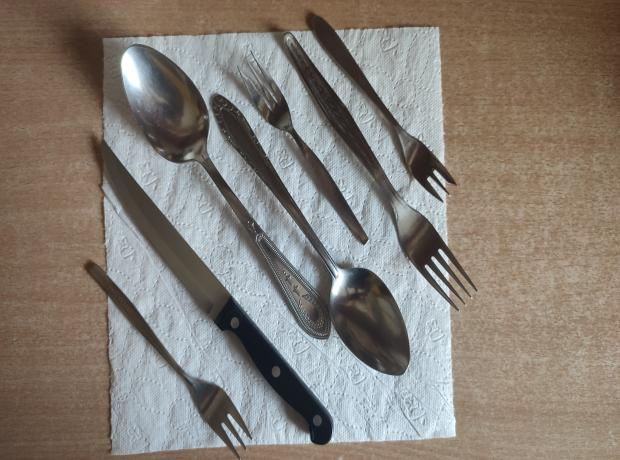metal: (100, 138, 334, 448), (119, 44, 331, 338), (212, 94, 412, 376), (86, 261, 252, 460), (307, 10, 459, 204), (236, 49, 370, 246)
